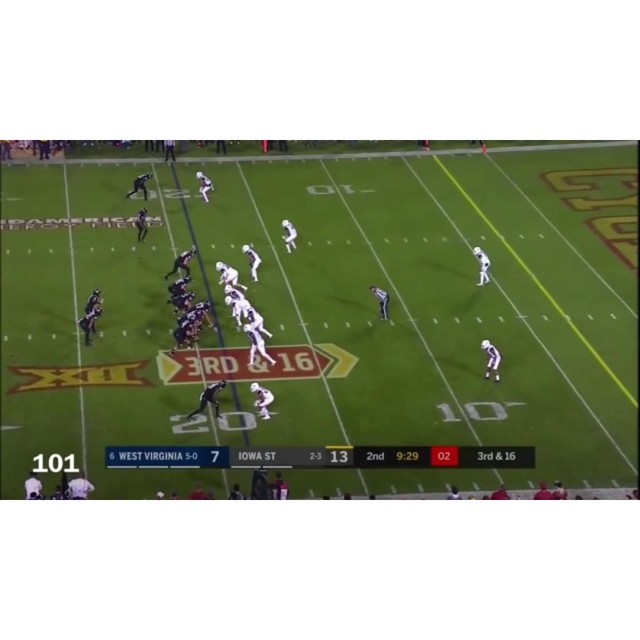american-football-player: (187, 378, 227, 422), (243, 322, 277, 370), (163, 246, 198, 281), (241, 303, 273, 339), (169, 317, 200, 354), (78, 304, 103, 347), (224, 293, 249, 331), (250, 382, 275, 420), (481, 338, 502, 383), (126, 171, 154, 201), (242, 244, 262, 283), (168, 291, 196, 318), (190, 300, 215, 330), (166, 275, 192, 302), (473, 247, 491, 286), (215, 260, 240, 288), (196, 171, 214, 203), (282, 219, 298, 254), (133, 208, 148, 243)
referee: (369, 283, 394, 326), (163, 140, 177, 162)
